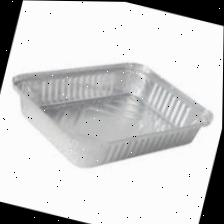metal: (0, 30, 223, 208)
